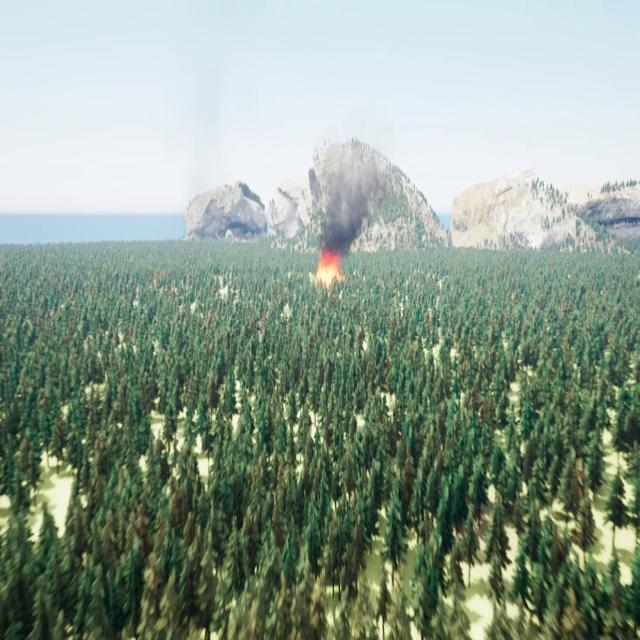fire: (311, 252, 344, 284)
smoke: (321, 150, 384, 240)
